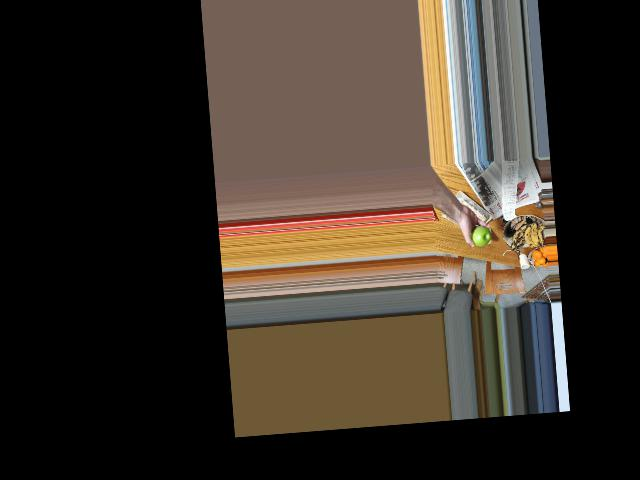apple: (468, 223, 493, 248)
